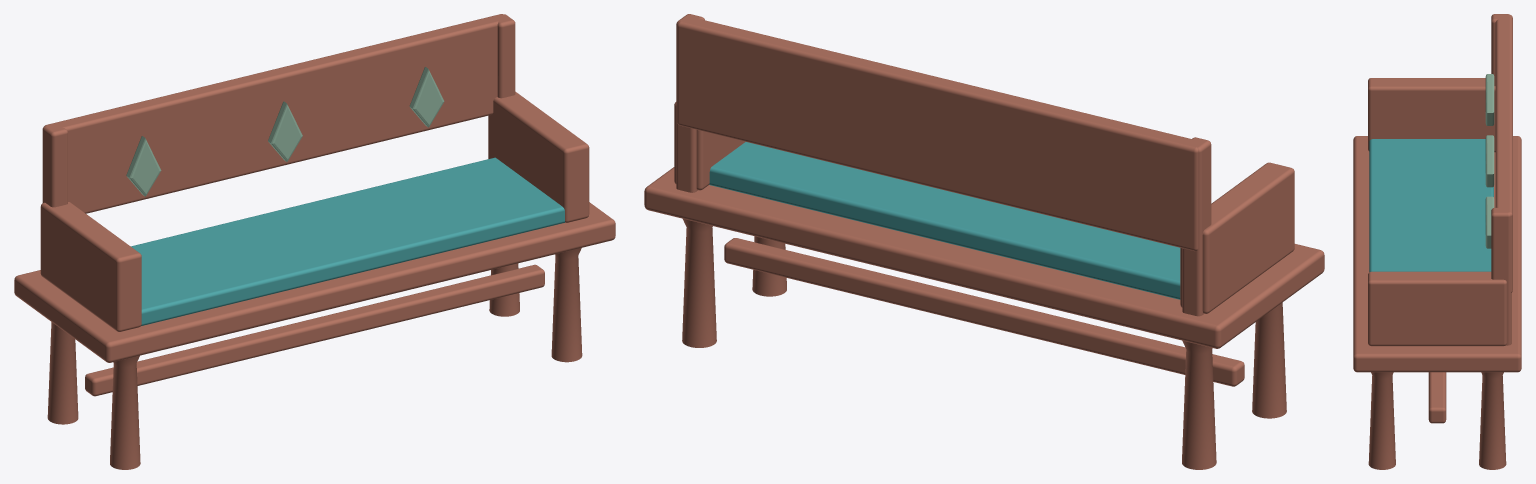
Rendered from enchanted-harp-garden-and-music-sanctuary-audience-ben-0d169fbd__30428.glb.
The picture shows the model from 3 angles, left to right: view 1: azimuth 30°, elevation 25°; view 2: azimuth 150°, elevation 25°; view 3: azimuth 270°, elevation 25°; orthographic projection. The views are drawn at different scales.
Visible parts, largest first — view 1: audience-bench; view 2: audience-bench; view 3: audience-bench.
Boxes of the visible parts, x1,y1,x2,y2 form: audience-bench: [14, 14, 615, 469]; audience-bench: [644, 14, 1324, 469]; audience-bench: [1353, 14, 1521, 469].
Bounding box in the file's own units: 1.8 × 0.97 × 0.5799.
